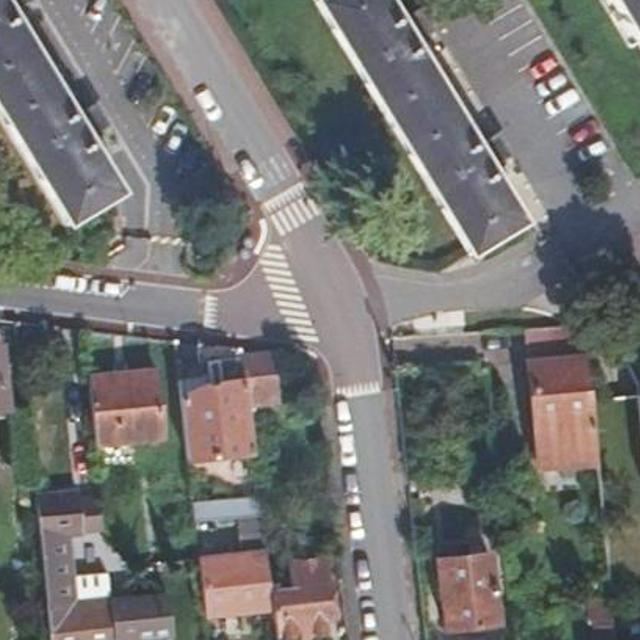passage_pieton: (254, 251, 284, 360), (268, 216, 316, 242)
